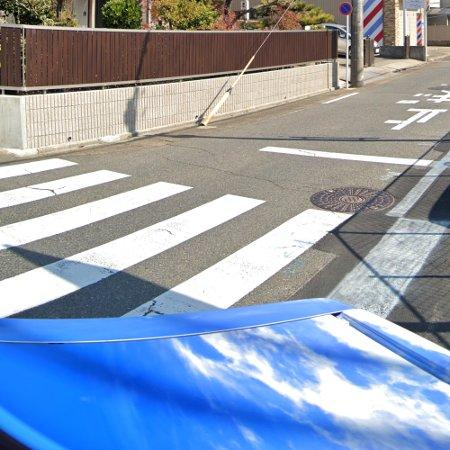crosswalks: (0, 154, 450, 320)
